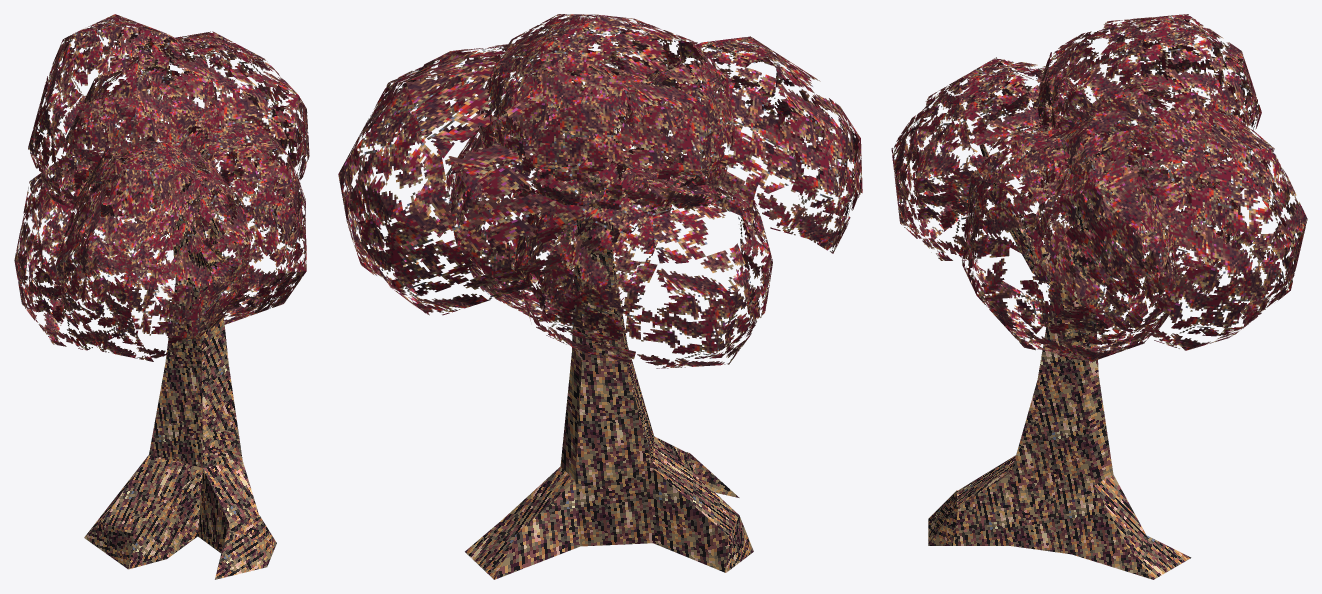
File: oak tree.glb
The picture shows the model from 3 angles, left to right: view 1: azimuth 30°, elevation 25°; view 2: azimuth 150°, elevation 25°; view 3: azimuth 270°, elevation 25°; orthographic projection. The views are drawn at different scales.
Visible parts, largest first — view 1: Trunk, Icosphere.002, Icosphere.001, Icosphere, Icosphere.004, Icosphere.003; view 2: Icosphere, Trunk, Icosphere.001, Icosphere.003, Icosphere.002, Icosphere.004; view 3: Icosphere, Trunk, Icosphere.004, Icosphere.001, Icosphere.002, Icosphere.003.
Part boxes in pixels (<box>): Trunk: <box>84,133,276,579</box>; Icosphere.002: <box>55,140,250,361</box>; Icosphere.001: <box>28,14,221,217</box>; Icosphere: <box>64,31,309,222</box>; Icosphere.004: <box>138,117,306,324</box>; Icosphere.003: <box>14,149,205,350</box>; Icosphere: <box>338,39,667,315</box>; Trunk: <box>465,80,753,579</box>; Icosphere.001: <box>477,14,735,212</box>; Icosphere.003: <box>513,142,772,368</box>; Icosphere.002: <box>609,36,862,253</box>; Icosphere.004: <box>445,51,681,321</box>; Icosphere: <box>1033,81,1307,350</box>; Trunk: <box>928,143,1191,579</box>; Icosphere.004: <box>962,114,1178,362</box>; Icosphere.001: <box>1028,14,1261,195</box>; Icosphere.002: <box>891,57,1107,260</box>; Icosphere.003: <box>1013,127,1240,294</box>.
Size of the model in its own units: 1.73 by 2.51 by 1.85.
2 materials, 2 textured.
